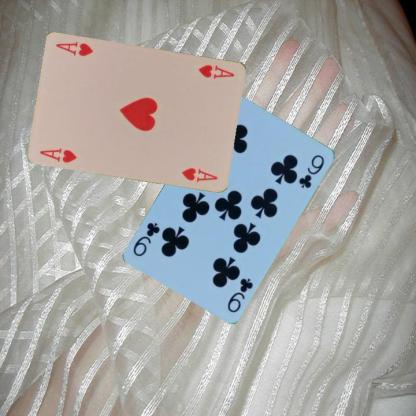9c: (224, 275, 254, 314)
Ah: (37, 145, 78, 164), (196, 62, 236, 80)
